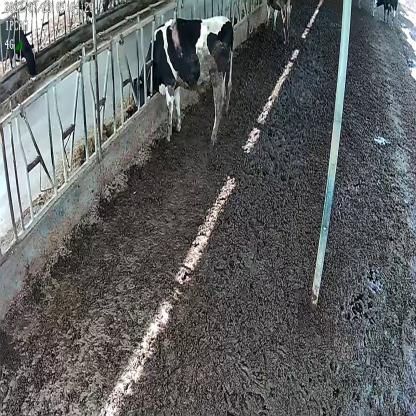cow: (131, 16, 236, 149)
